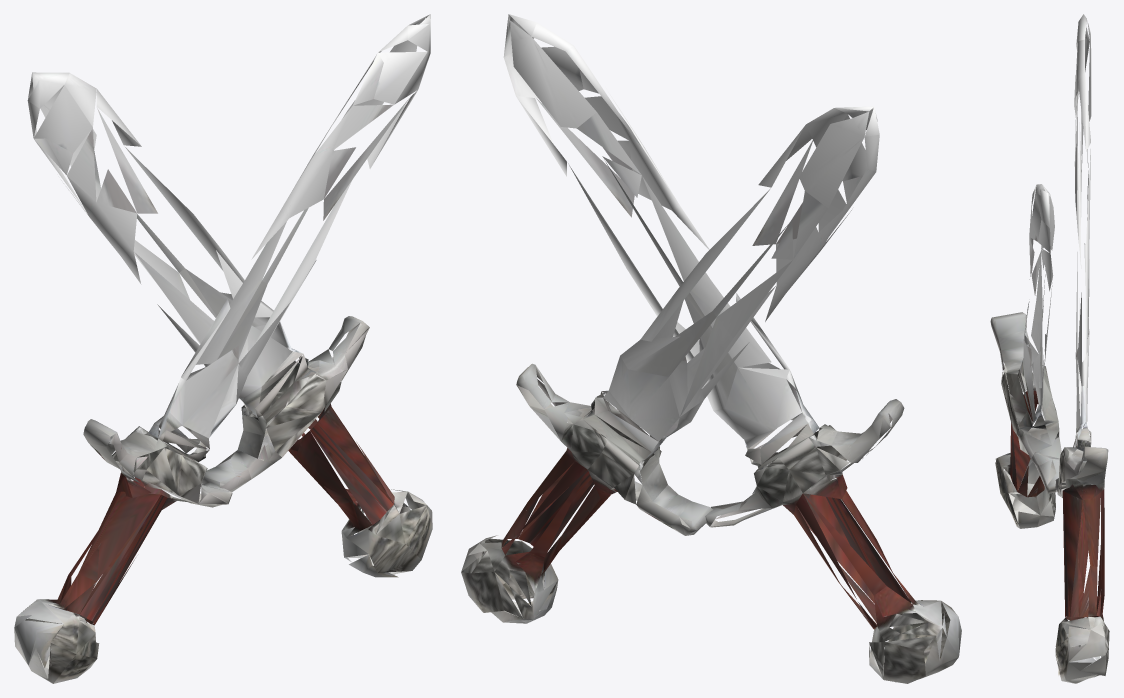
Rendered from swords.comp.glb.
3 views of the same model, side by side, from view 1: azimuth 30°, elevation 25°; view 2: azimuth 150°, elevation 25°; view 3: azimuth 270°, elevation 25° (orthographic). The views are drawn at different scales.
Parts seen in each view (by area): view 1: swords-power-up; view 2: swords-power-up; view 3: swords-power-up.
Part boxes in pixels (<box>): swords-power-up: <box>14,14,432,683</box>; swords-power-up: <box>461,14,961,683</box>; swords-power-up: <box>990,14,1109,683</box>.
Bounding box in the file's own units: 0.5264 × 0.6755 × 0.1411.
1 material, 1 textured.
